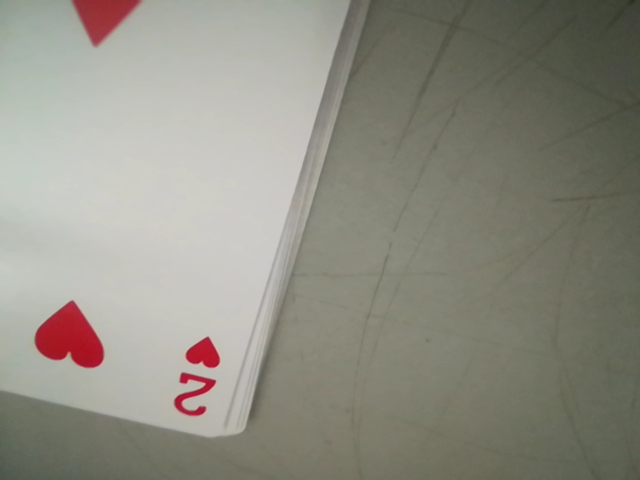hx 2: (170, 328, 231, 422)
